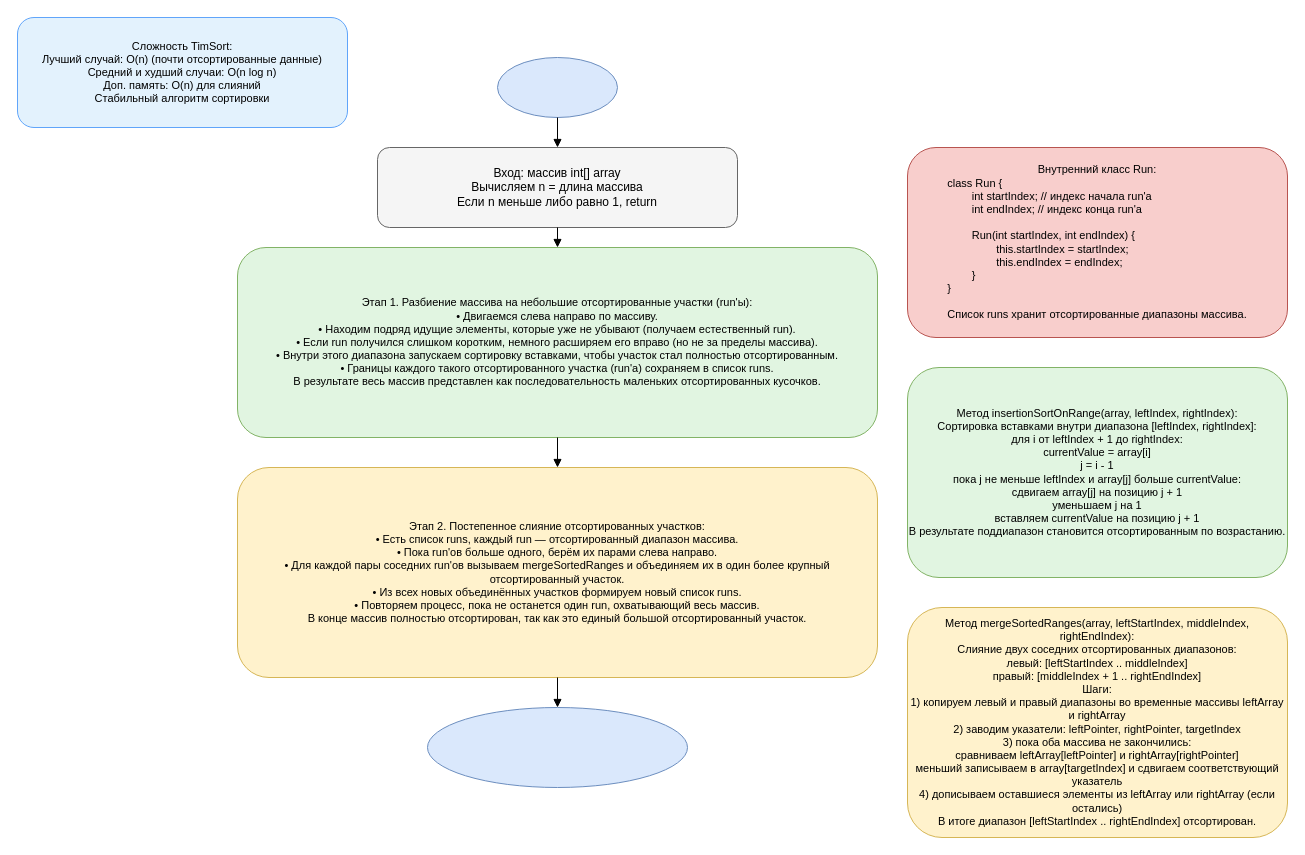
The diagram is 1305 pixels wide and 855 high, and some of its shapes have lost their labels. The centre of each missing label's shape, as x and y in pixels:
"Finish" goes at (557,747).
"Start" goes at (557,87).
